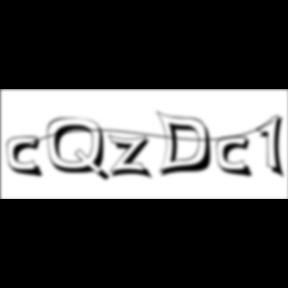1: (256, 114, 288, 182)
D: (156, 110, 218, 180)
Q: (47, 117, 113, 184)
c: (7, 136, 47, 180), (217, 136, 257, 180)
z: (107, 134, 156, 182)
